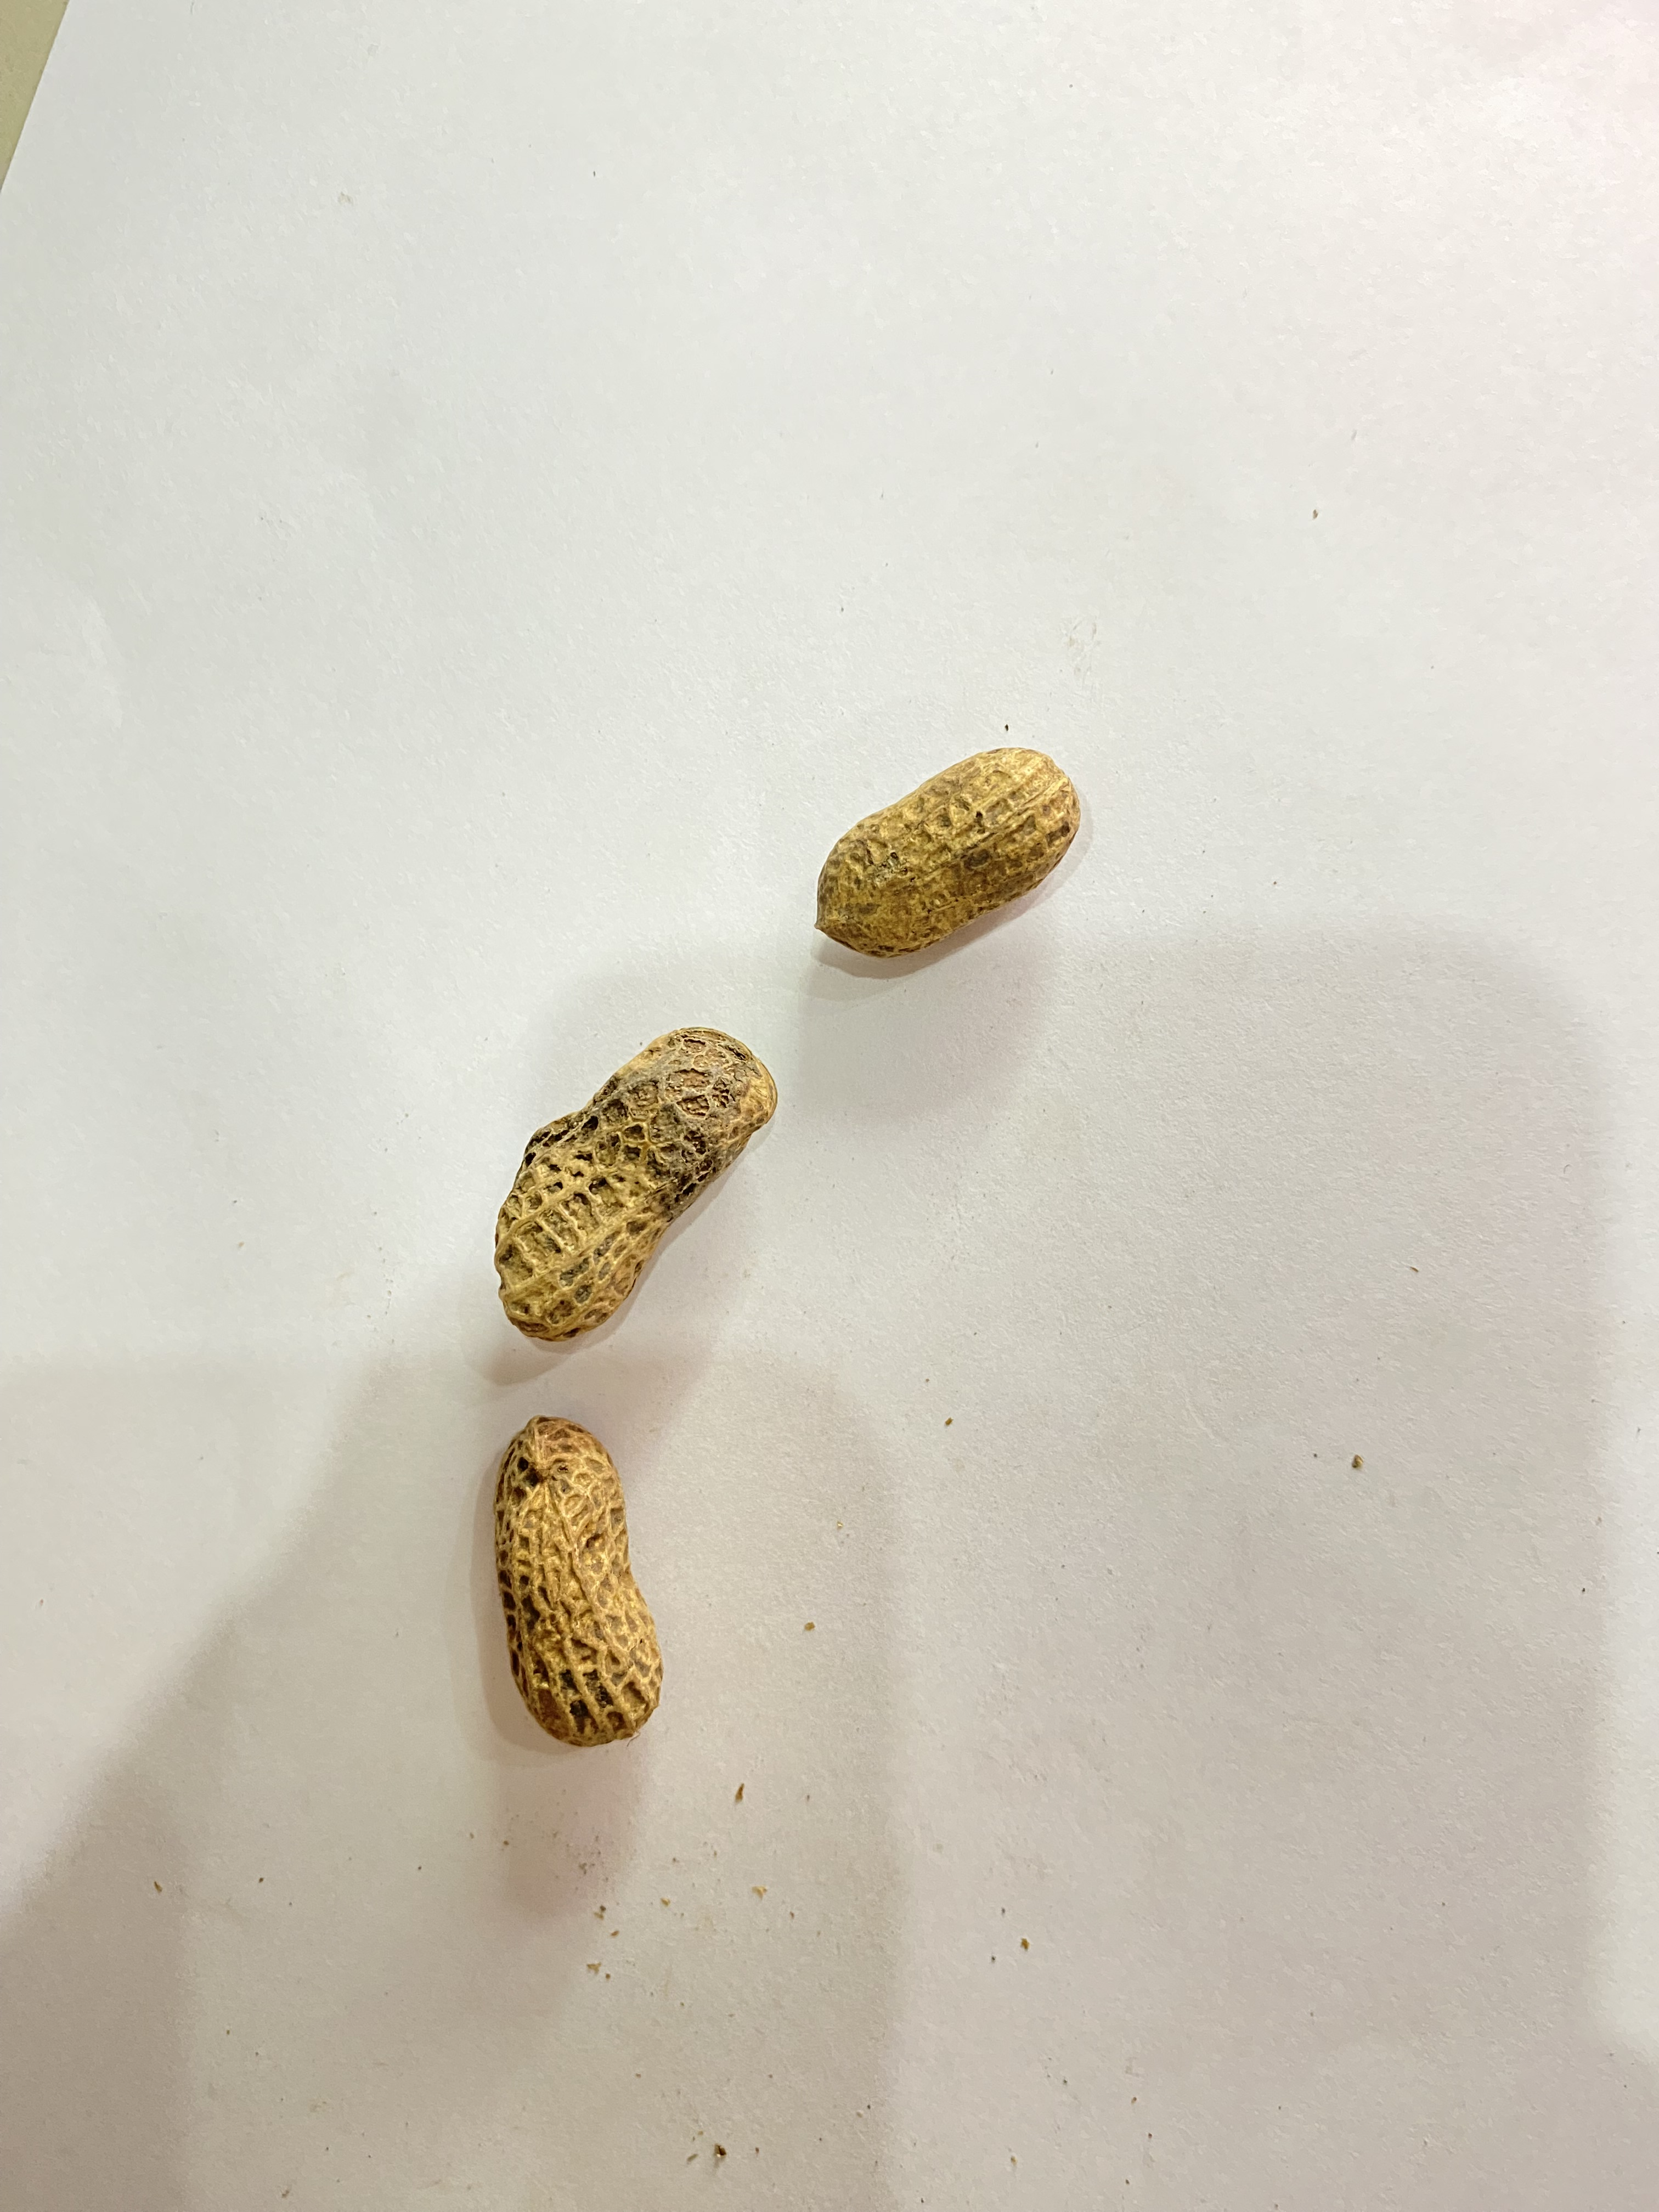kacang2: (471, 993, 779, 1339), (423, 1418, 739, 1750), (789, 705, 1087, 982)
